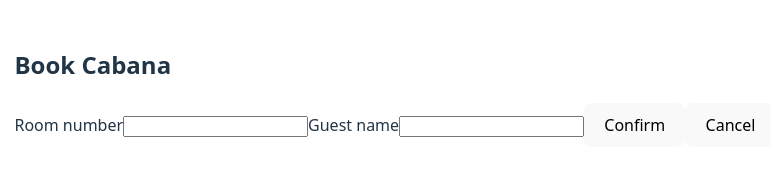
Test: BookingForm failed submission › shows a generic error when the server is unreachable
In the field labelled "Room number": (216, 126) [123,116,308,137], type "101"
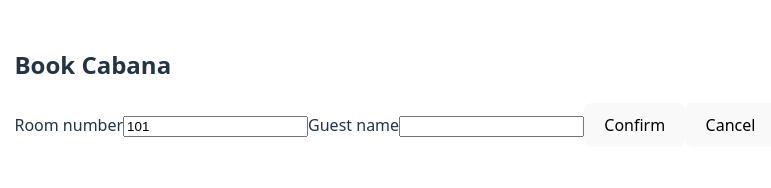
In the field labelled "Guest name": (492, 126) [399,116,584,137], type "Alice"
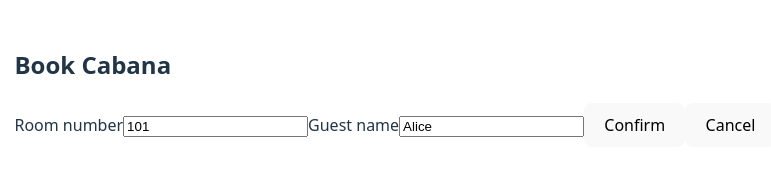
Click the button "Confirm": (635, 125) [584,103,685,146]
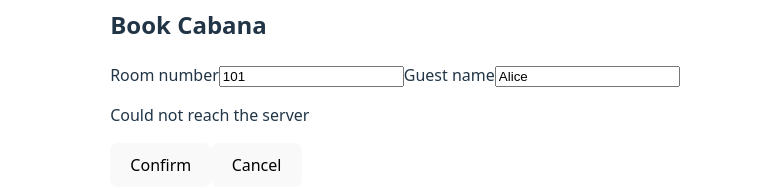
expect the message reads "Could not reach the server": met, box [110,104,309,126]
